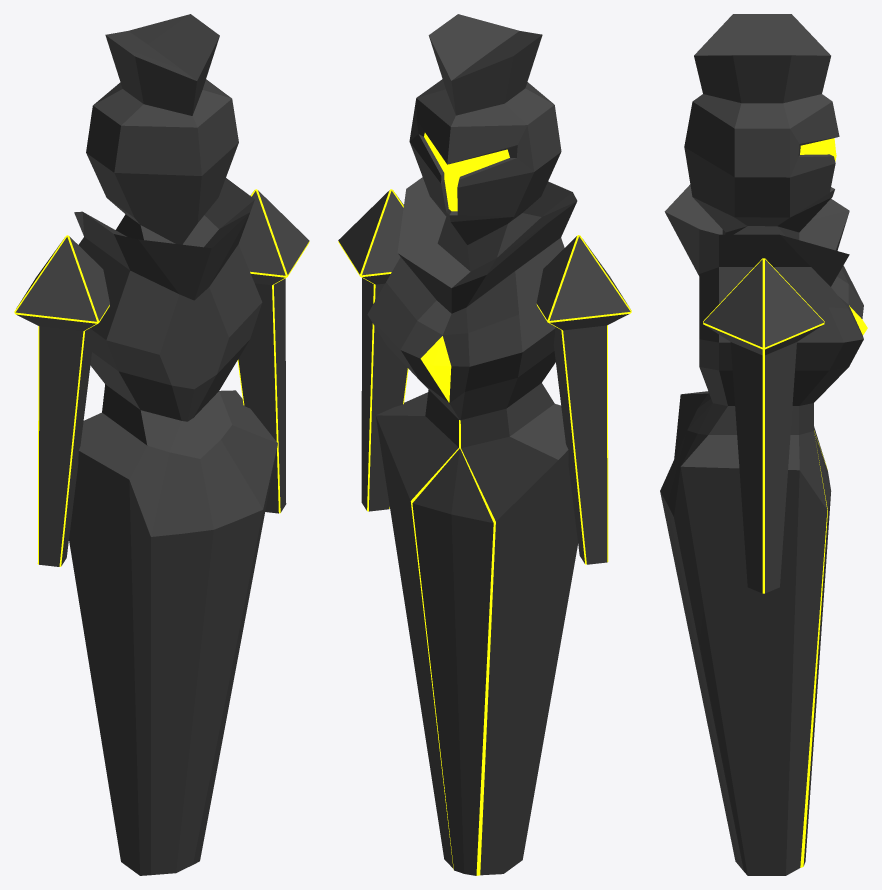
The model's file is Queen_black.glb.
3 views of the same model, side by side, from view 1: azimuth 30°, elevation 25°; view 2: azimuth 150°, elevation 25°; view 3: azimuth 270°, elevation 25° (orthographic).
Visible parts, largest first — view 1: tz001; view 2: tz001; view 3: tz001.
Boxes of the visible parts, x1,y1,x2,y2 form: tz001: (14, 14, 309, 875); tz001: (338, 14, 631, 875); tz001: (660, 14, 867, 875).
Size of what is drawn, in the model's own units: 0.6806 by 1.83 by 0.4172.
